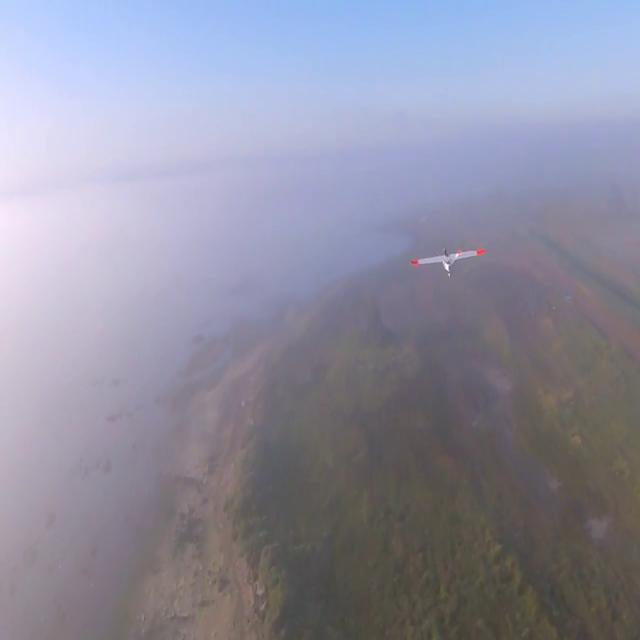iha: (442, 242, 454, 276)
